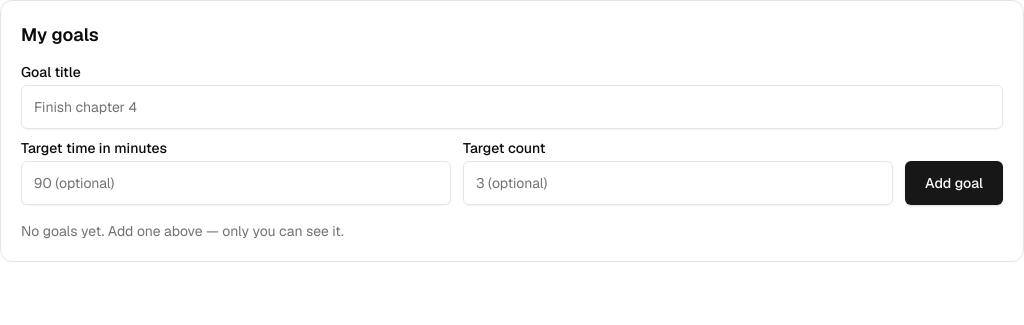
GoalsPanel › creates a goal, converting minutes to seconds
The width and height of the screenshot is (1024, 325).
In the field labelled "Goal title": (512, 107) [21,85,1003,129], type "Revise thermodynamics"
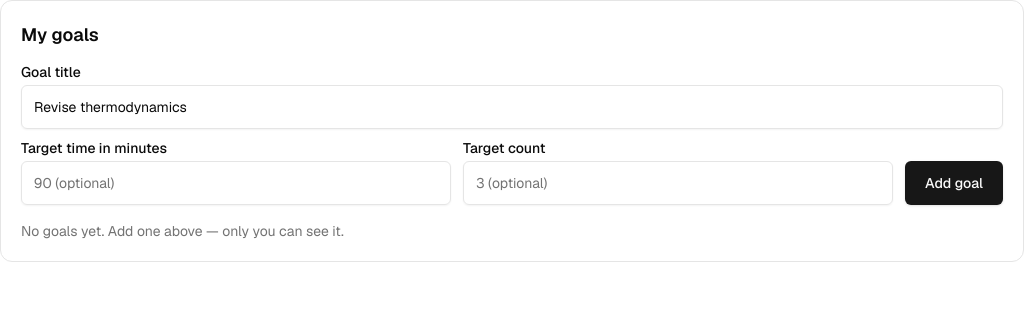
In the number field labelled "Target time in minutes": (236, 183) [21,161,451,205], type "45"
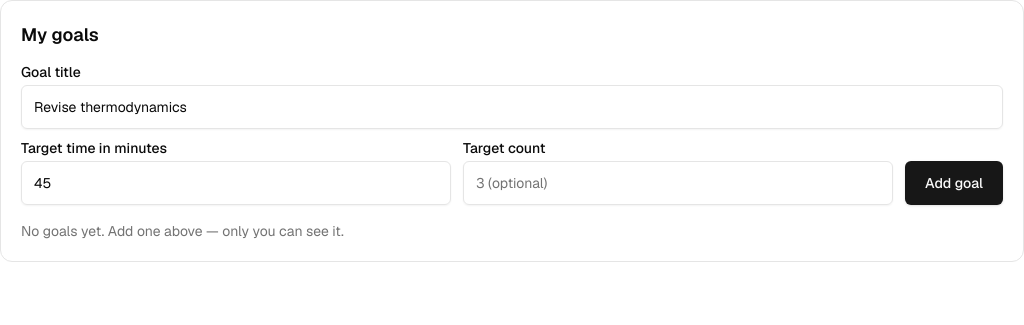
Click the button "Add goal": (954, 183) [905,161,1003,205]
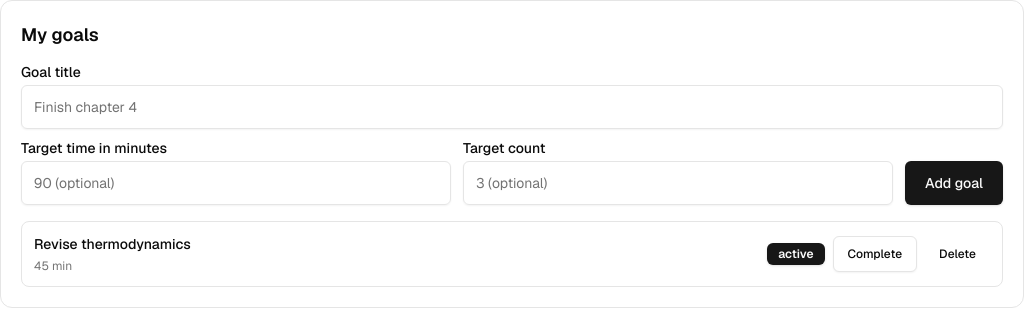
Check: the text "Revise thermodynamics" is shown, box [34,234,191,254]
Check: the field labelled "Goal title" is empty, box [21,85,1003,129]
